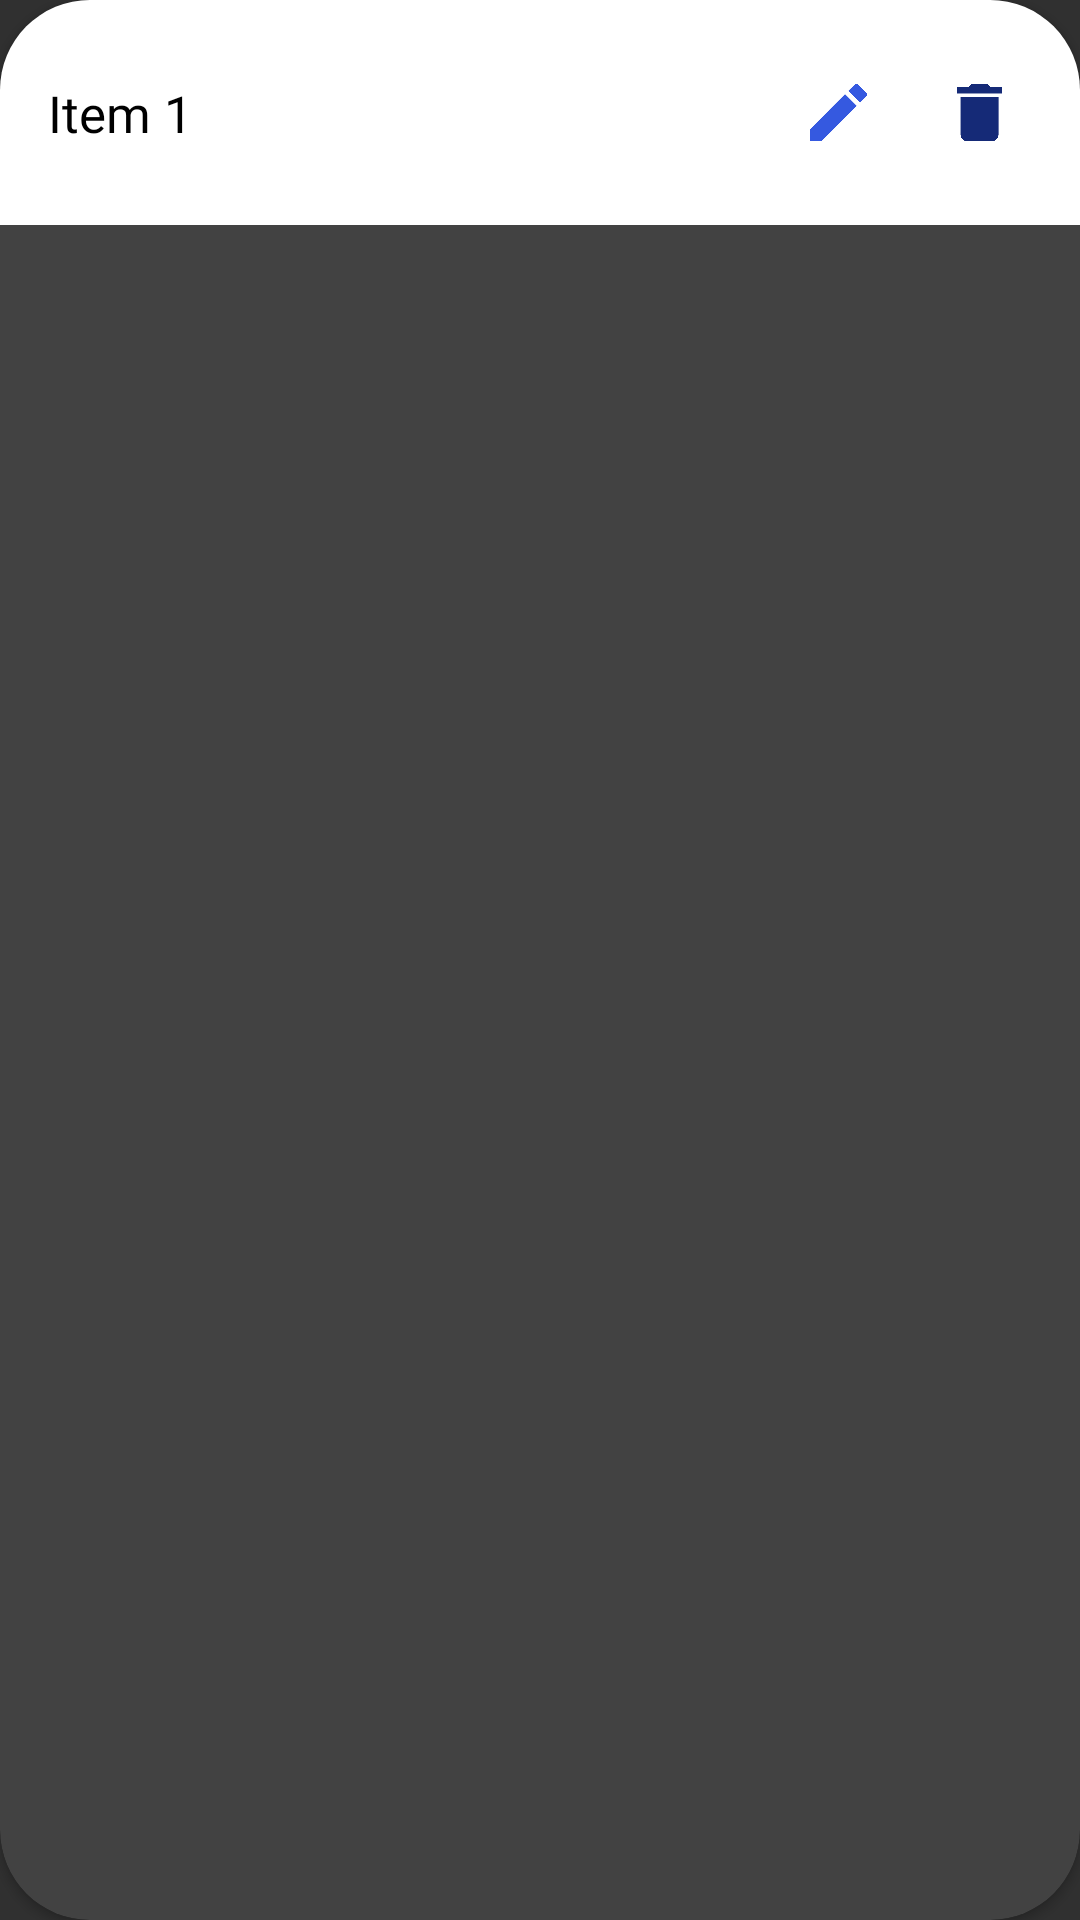

Named icons in this screenshot (1080px x 1920px) and their bounding boxes, (x1, y1, x2, y2):
delete: (957, 84, 1002, 141)
edit: (810, 84, 867, 141)
